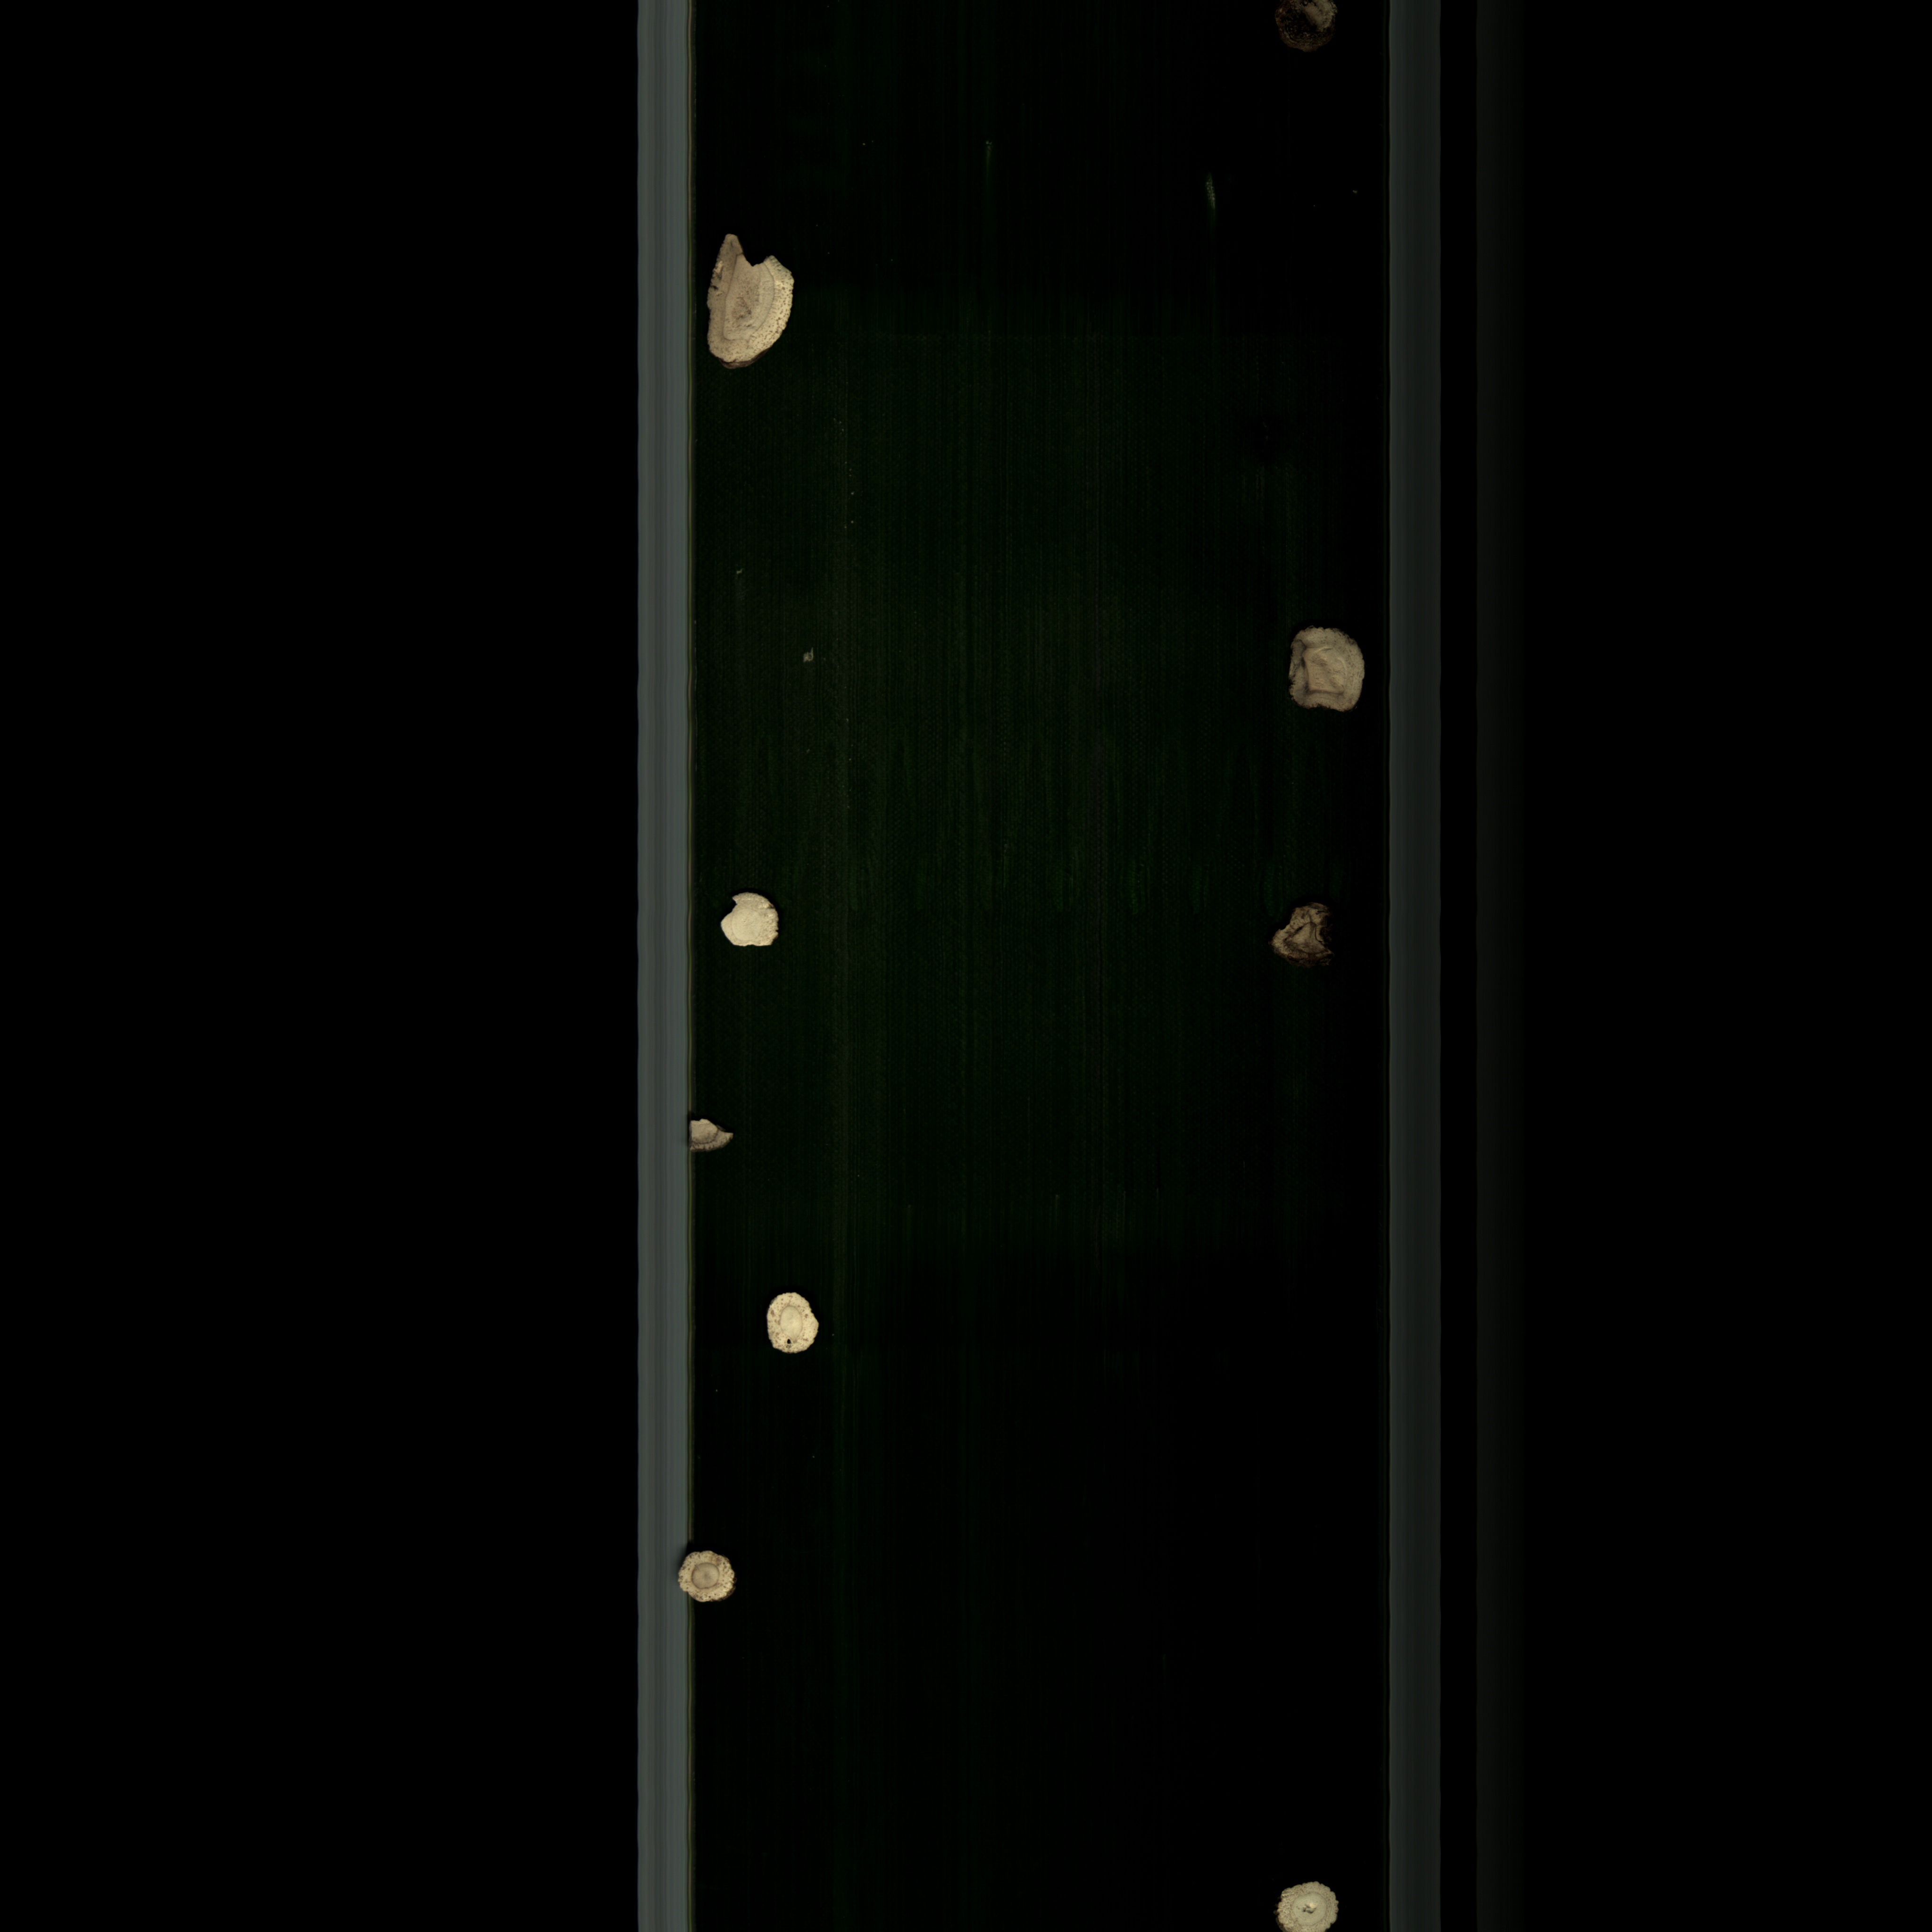debris: (701, 216, 807, 382), (715, 876, 798, 957)
dreg: (679, 1109, 741, 1161)
hole: (757, 1290, 823, 1362)
moldy: (1272, 623, 1382, 720), (667, 1543, 763, 1614), (1270, 906, 1343, 975)
